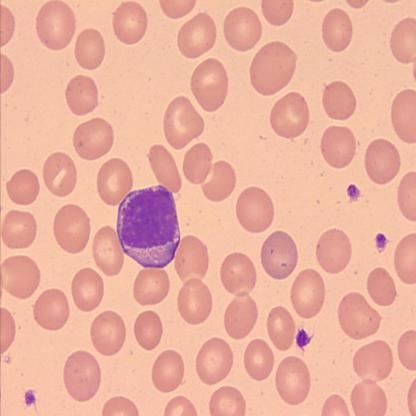Atypical lymphocyte: (116, 184, 183, 271)
